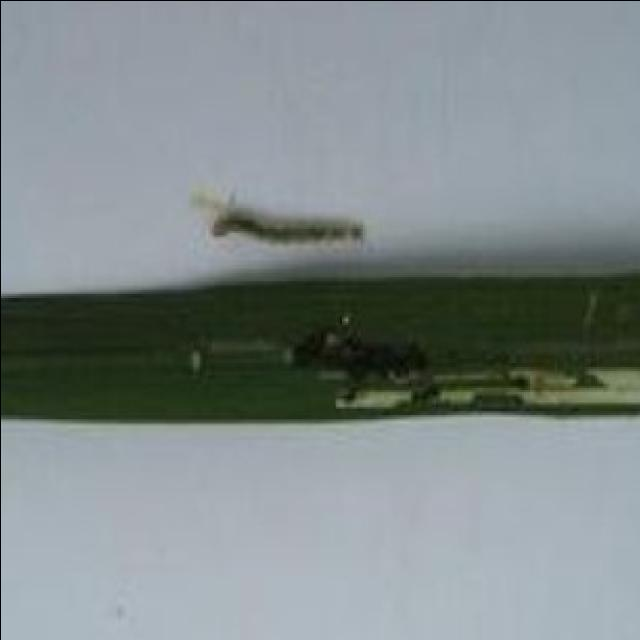rice leaf roller: (209, 215, 360, 245)
